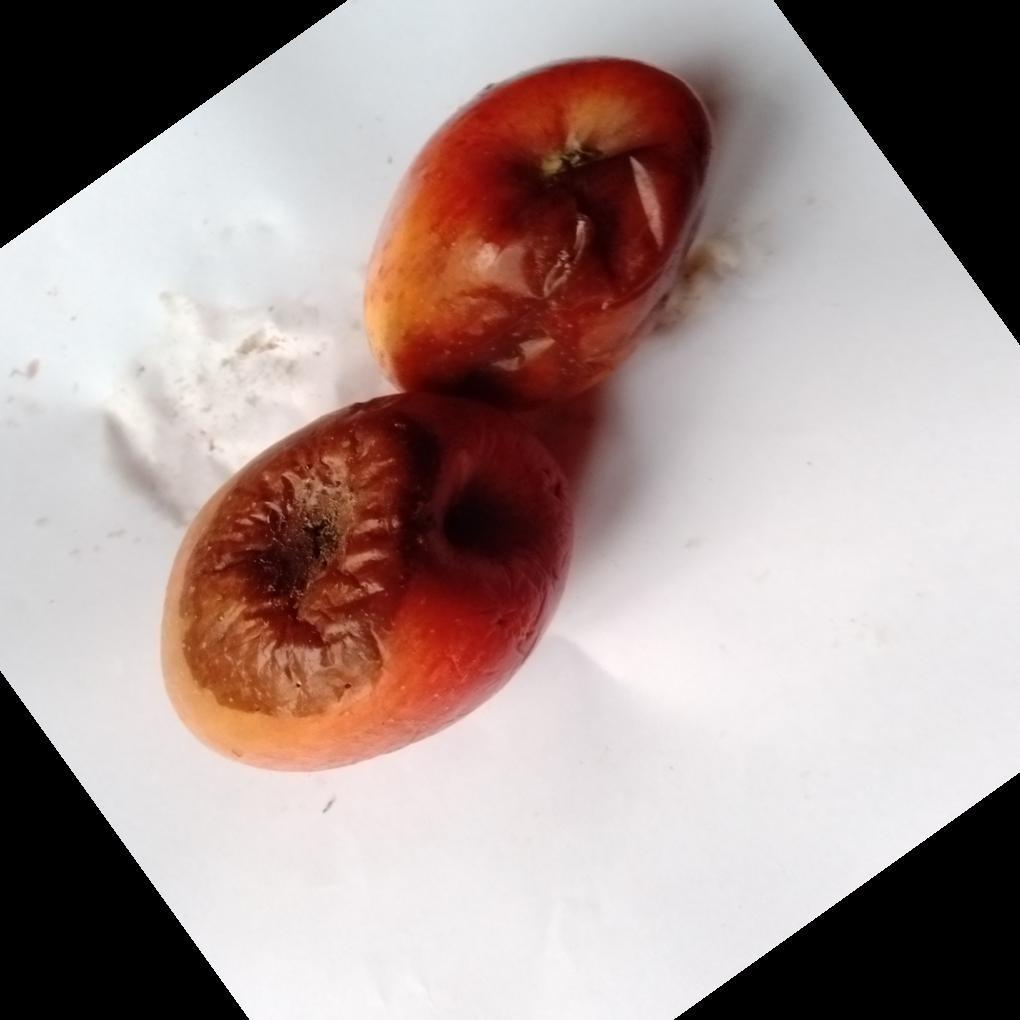FreshOrange: (158, 59, 712, 777)
